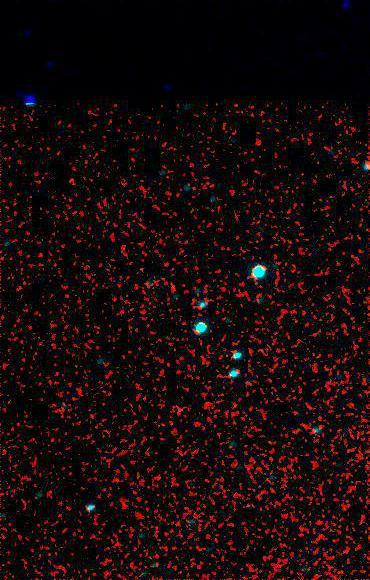star: (158, 274, 188, 304)
